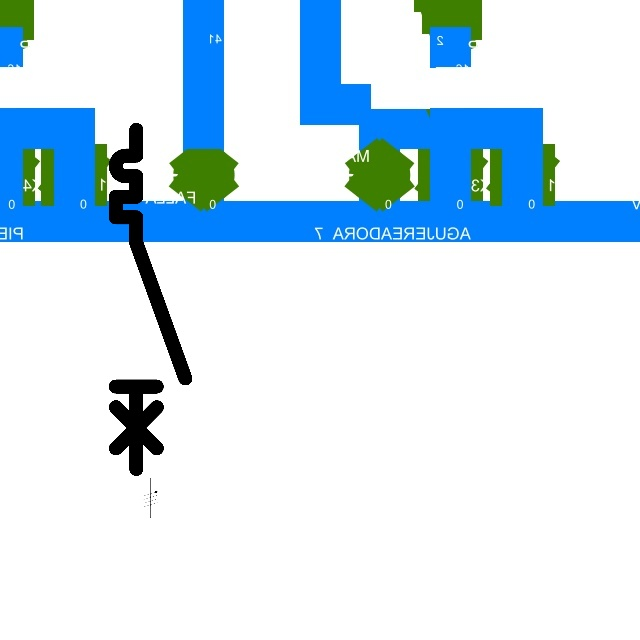interruptor_termomagnetico: (107, 121, 194, 478)
